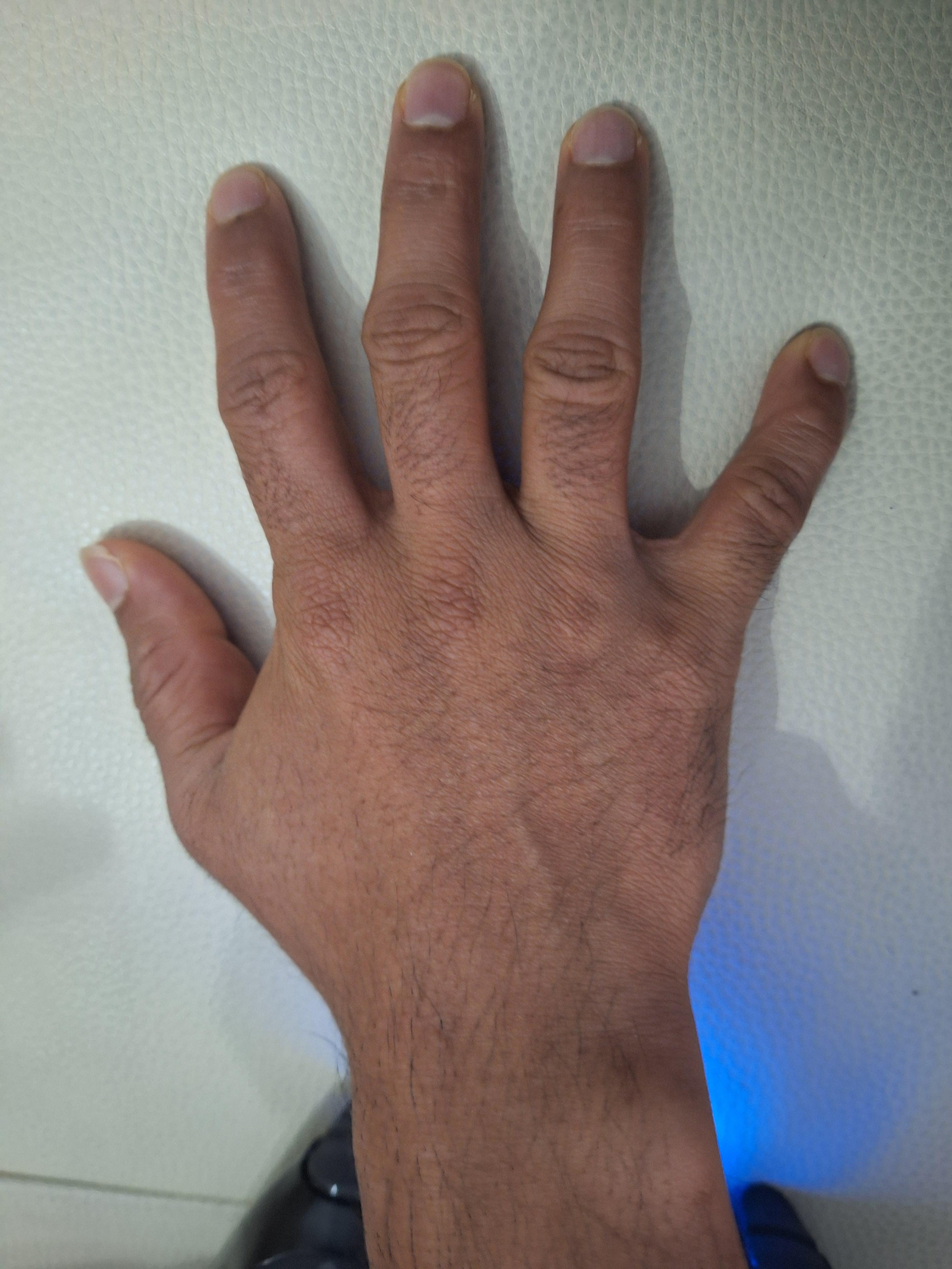Fingernail: (401, 59, 472, 129), (571, 105, 638, 165), (208, 165, 269, 223), (78, 545, 127, 613), (806, 327, 851, 387)
